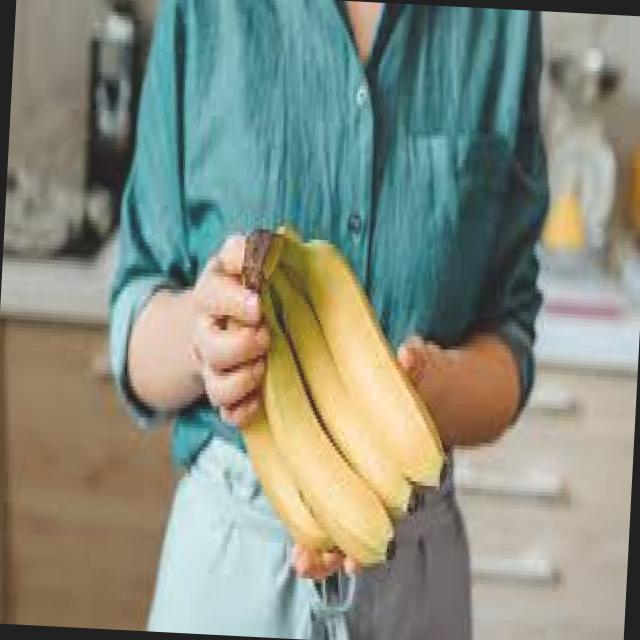Platano: (257, 212, 461, 486), (242, 284, 409, 572)
